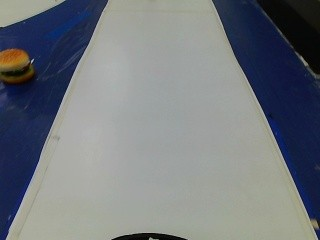burger: (0, 45, 36, 86)
